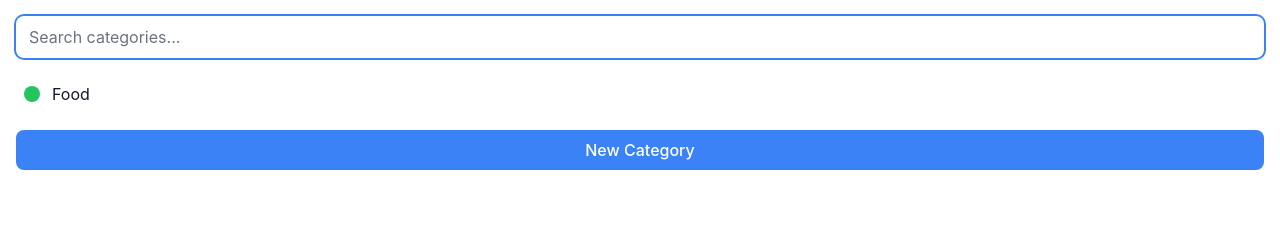
Test: CategoriesPage › search › shows "No categories found" when search yields no results
Expected: the text "Food" is shown, [52,84,90,104]
In the field with placeholder "Search categories...": (640, 37) [16,16,1264,58], type "xyz"
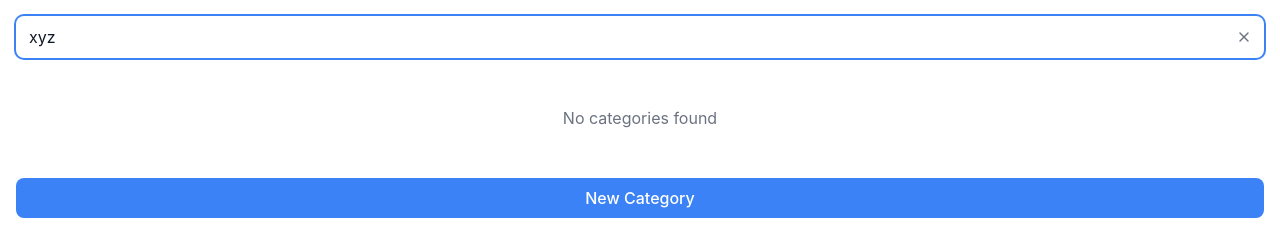
Expected: the text "No categories found" is shown, [563,108,717,128]
Expected: the button "Food" is gone
